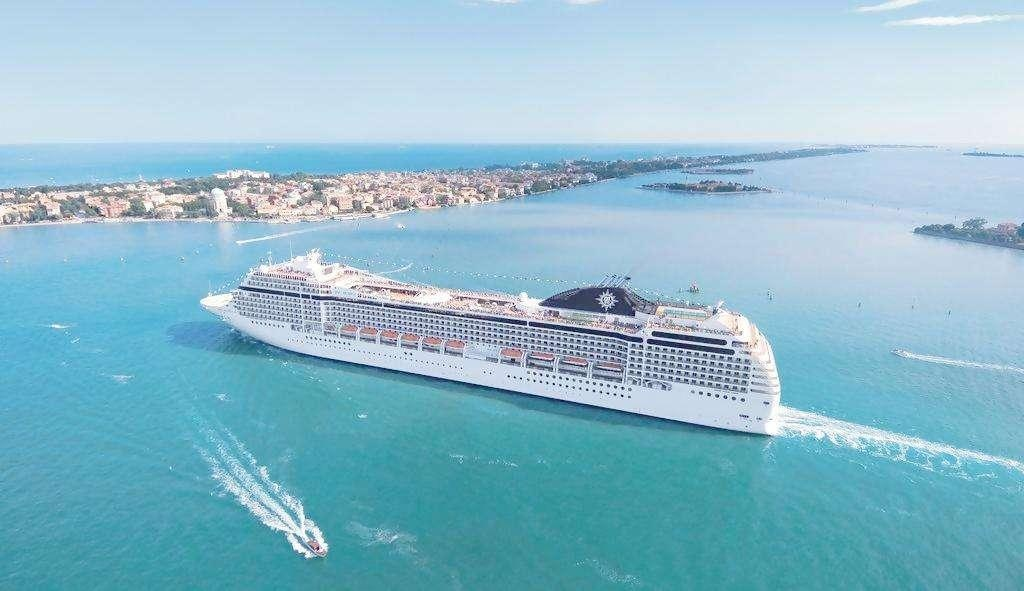youlun: (195, 245, 791, 438)
